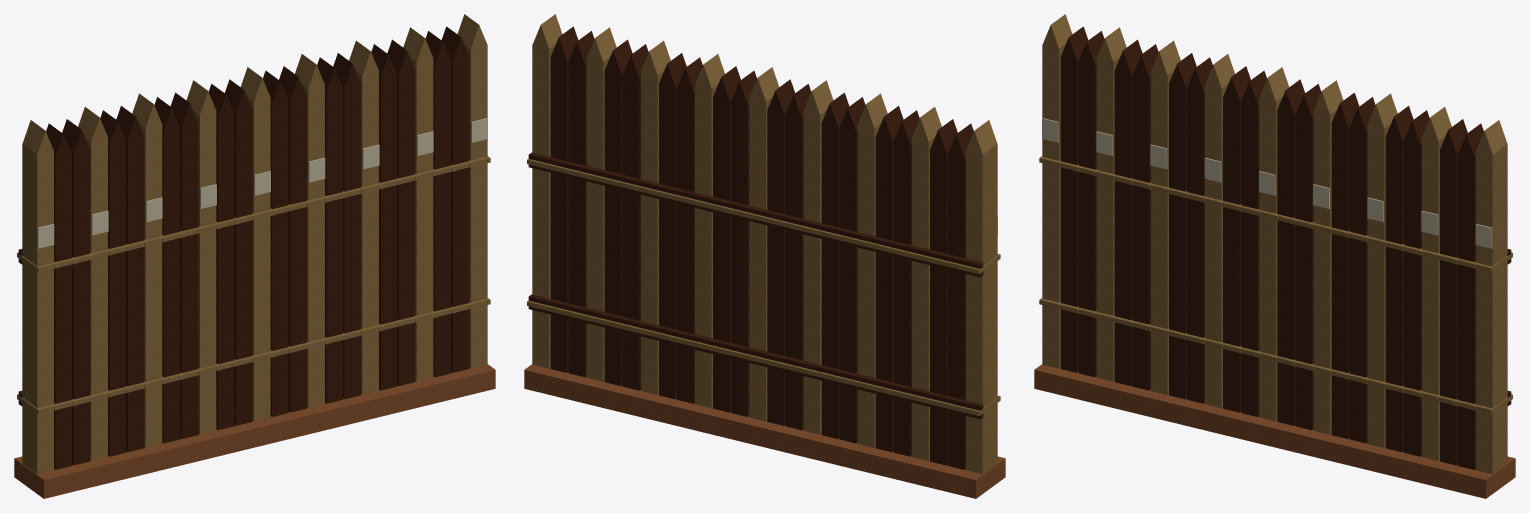
The model's file is Berber_Palisade_Age1_straight_6m.fbx.
3 renders of one model, left to right at view 1: azimuth 30°, elevation 25°; view 2: azimuth 150°, elevation 25°; view 3: azimuth 330°, elevation 25°, orthographic.
Visible parts, largest first — view 1: palm_split_post.019, palm_split_post.014, palm_split_post.016, palm_split_post.012, palm_split_post.009, earth_seat.002, palm_split_post.021, palm_split_post.018, palm_split_post.015, front_lashing.002, neutral_owner_painted_stripe.002, lashing_side.002; view 2: palm_split_post.019, palm_split_post.014, palm_split_post.012, palm_split_post.016, palm_split_post.009, earth_seat.002, palm_split_post.021, palm_split_post.018, palm_split_post.015, continuous_rear_tie.002, back_lashing.002, lashing_side.002; view 3: palm_split_post.012, palm_split_post.014, palm_split_post.016, palm_split_post.019, palm_split_post.009, earth_seat.002, palm_split_post.015, palm_split_post.018, palm_split_post.021, front_lashing.002, neutral_owner_painted_stripe.002, lashing_side.002.
Part boxes in pixels (left/top/right/bottom): palm_split_post.019: left=154, top=26, right=469, bottom=443; palm_split_post.014: left=62, top=31, right=451, bottom=465; palm_split_post.016: left=100, top=39, right=415, bottom=456; palm_split_post.012: left=46, top=53, right=360, bottom=469; palm_split_post.009: left=22, top=14, right=487, bottom=474; earth_seat.002: left=14, top=364, right=495, bottom=498; palm_split_post.021: left=186, top=27, right=433, bottom=434; palm_split_post.018: left=132, top=40, right=378, bottom=447; palm_split_post.015: left=78, top=54, right=324, bottom=460; front_lashing.002: left=37, top=157, right=489, bottom=413; neutral_owner_painted_stripe.002: left=37, top=118, right=487, bottom=248; lashing_side.002: left=17, top=156, right=490, bottom=414; palm_split_post.019: left=550, top=26, right=865, bottom=443; palm_split_post.014: left=568, top=31, right=957, bottom=465; palm_split_post.012: left=659, top=53, right=973, bottom=469; palm_split_post.016: left=604, top=39, right=919, bottom=456; palm_split_post.009: left=532, top=14, right=997, bottom=474; earth_seat.002: left=524, top=364, right=1005, bottom=498; palm_split_post.021: left=586, top=27, right=833, bottom=434; palm_split_post.018: left=641, top=40, right=887, bottom=447; palm_split_post.015: left=695, top=54, right=941, bottom=460; continuous_rear_tie.002: left=528, top=152, right=983, bottom=419; back_lashing.002: left=527, top=159, right=979, bottom=415; lashing_side.002: left=527, top=159, right=1000, bottom=415; palm_split_post.012: left=1060, top=26, right=1375, bottom=443; palm_split_post.014: left=1078, top=31, right=1467, bottom=465; palm_split_post.016: left=1114, top=39, right=1429, bottom=456; palm_split_post.019: left=1169, top=53, right=1483, bottom=469; palm_split_post.009: left=1042, top=14, right=1507, bottom=474; earth_seat.002: left=1034, top=364, right=1515, bottom=498; palm_split_post.015: left=1096, top=27, right=1343, bottom=434; palm_split_post.018: left=1151, top=40, right=1397, bottom=447; palm_split_post.021: left=1205, top=54, right=1451, bottom=460; front_lashing.002: left=1042, top=157, right=1492, bottom=413; neutral_owner_painted_stripe.002: left=1042, top=118, right=1492, bottom=248; lashing_side.002: left=1039, top=156, right=1512, bottom=414.
Bounding box in the file's own units: 601 × 458 × 68.29.
4 materials, 4 textured.
